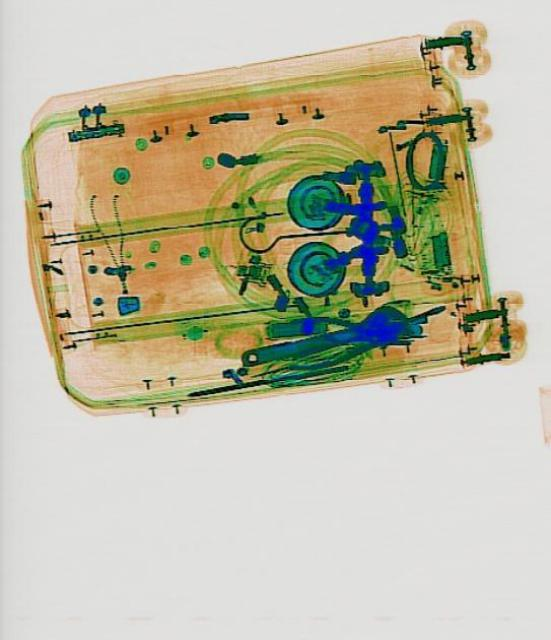Pliers: (279, 303, 404, 371)
Wrench: (236, 296, 409, 378)
